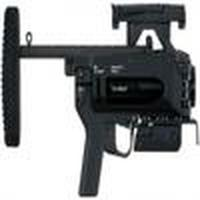gun: (2, 6, 200, 187)
